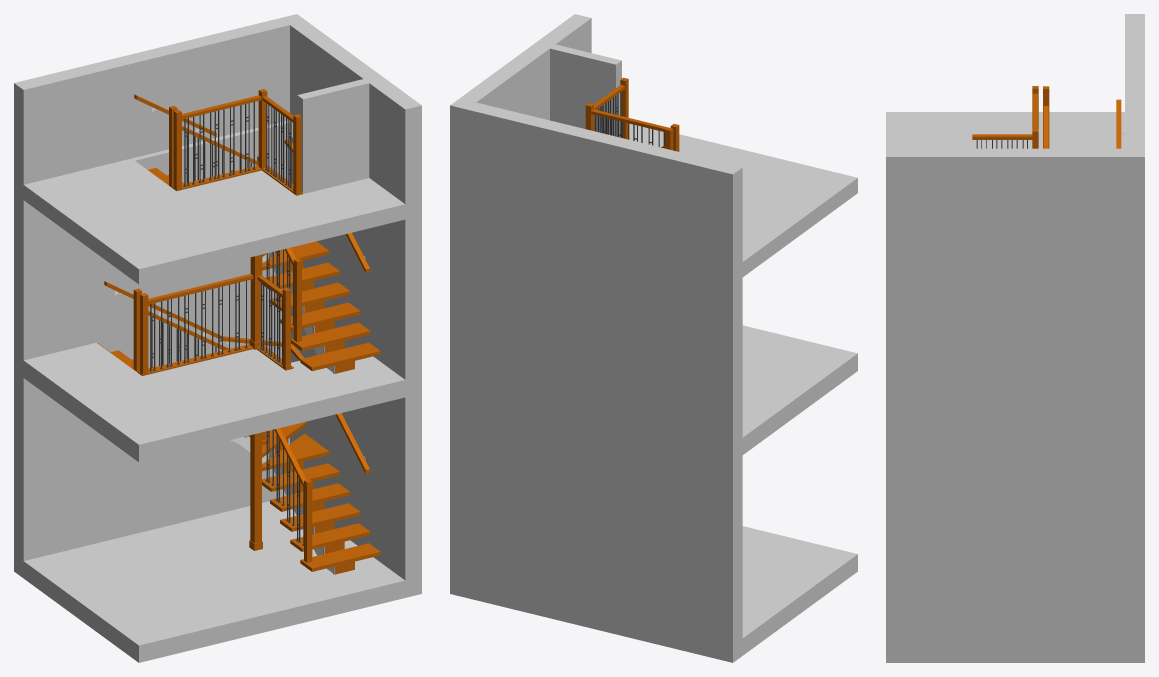
The model's file is 3D Сборка 1.obj.
3 renders of one model, left to right at view 1: azimuth 30°, elevation 25°; view 2: azimuth 150°, elevation 25°; view 3: azimuth 270°, elevation 25°, orthographic. The views are drawn at different scales.
Size of the model in its own units: 4.25 by 7.01 by 3.25.
